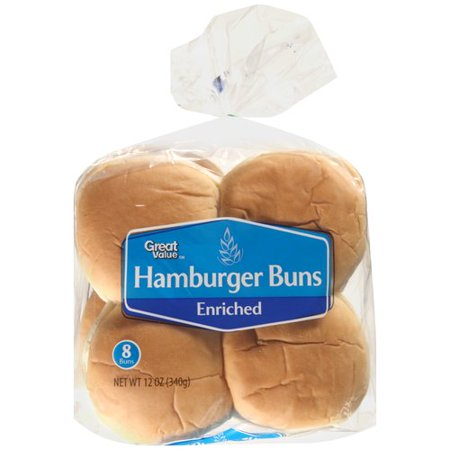hamburger_buns: (56, 137, 385, 446), (219, 154, 368, 310)
